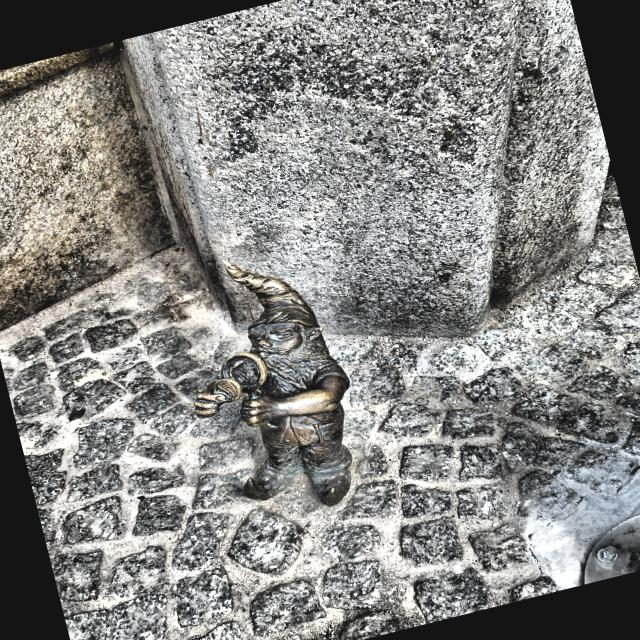Kolekcjoner: (194, 260, 352, 505)
